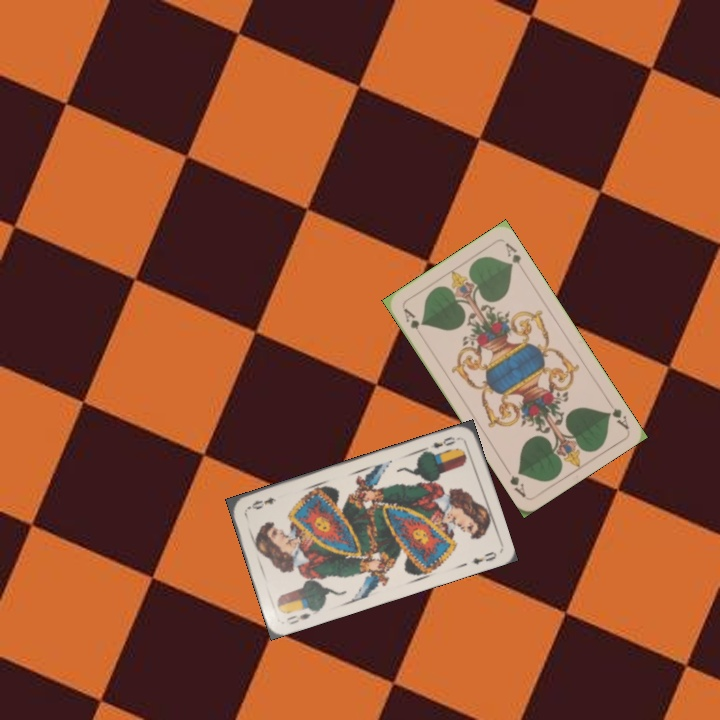EO: (427, 432, 462, 451), (283, 609, 313, 627)
GA: (603, 396, 632, 432), (399, 304, 425, 340)
